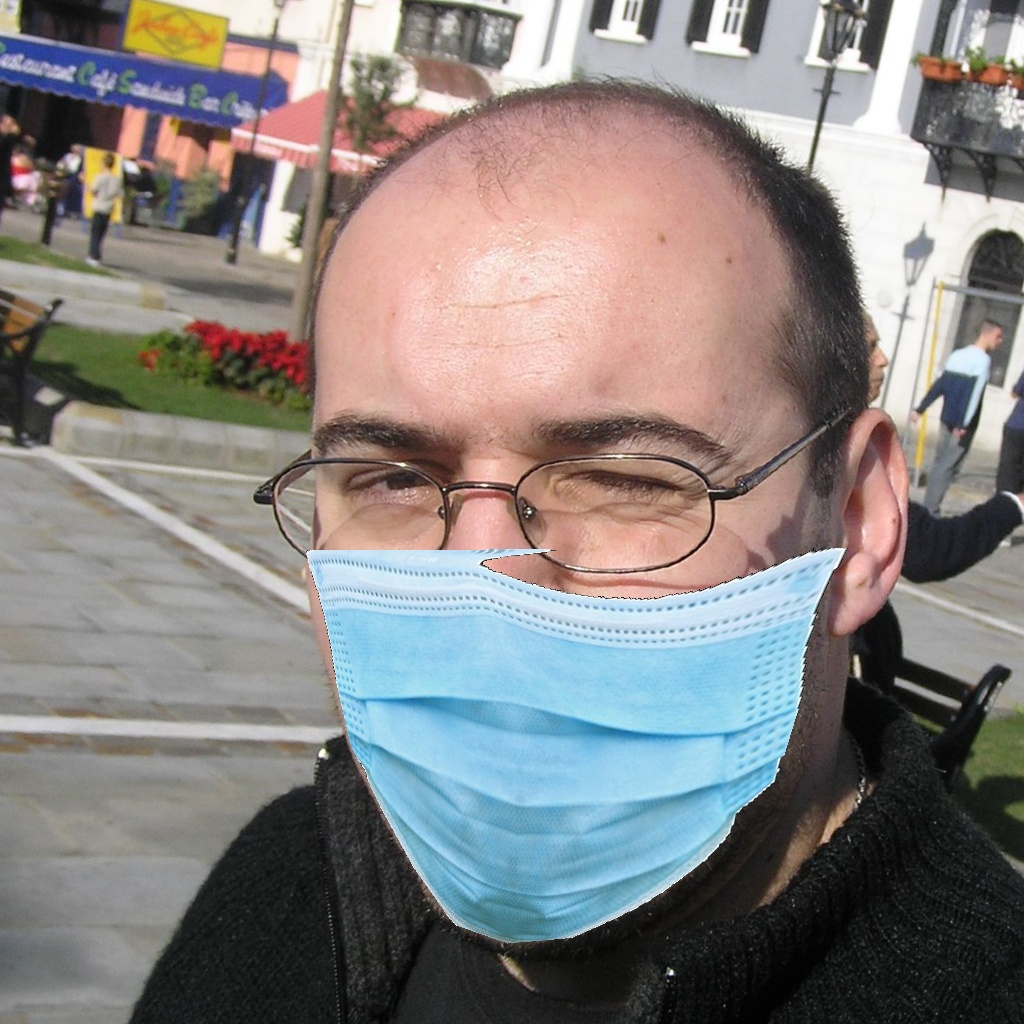Mask: (281, 317, 855, 960)
